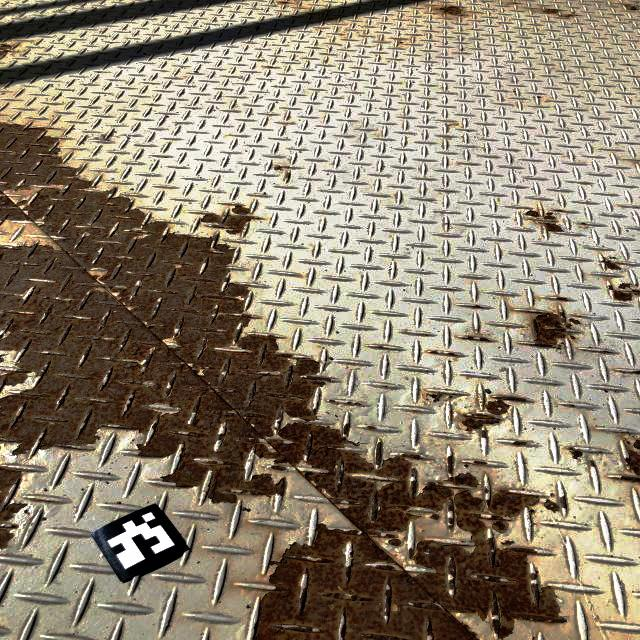Corrosion: (0, 122, 569, 640), (515, 305, 585, 350), (0, 466, 32, 550), (201, 211, 265, 236), (609, 449, 640, 483), (484, 395, 528, 416), (461, 413, 503, 432), (606, 282, 640, 302), (543, 495, 568, 514), (532, 221, 566, 233), (436, 5, 468, 16), (600, 257, 622, 271), (230, 203, 251, 216), (426, 391, 445, 404), (0, 43, 13, 60), (567, 446, 584, 459), (523, 207, 540, 218), (428, 350, 457, 356), (540, 8, 563, 15), (622, 3, 638, 11), (543, 212, 556, 221), (510, 440, 529, 446), (631, 439, 640, 451), (473, 460, 489, 465), (345, 401, 361, 406), (562, 13, 576, 18), (556, 296, 569, 301), (283, 172, 291, 179), (480, 430, 487, 438), (272, 165, 283, 170), (276, 1, 292, 4), (460, 336, 476, 339), (366, 426, 377, 430), (479, 337, 489, 341), (328, 399, 338, 403), (447, 395, 455, 400), (580, 221, 587, 226), (590, 460, 595, 467), (555, 209, 563, 213), (474, 304, 481, 308), (626, 440, 631, 445), (550, 493, 554, 497)
